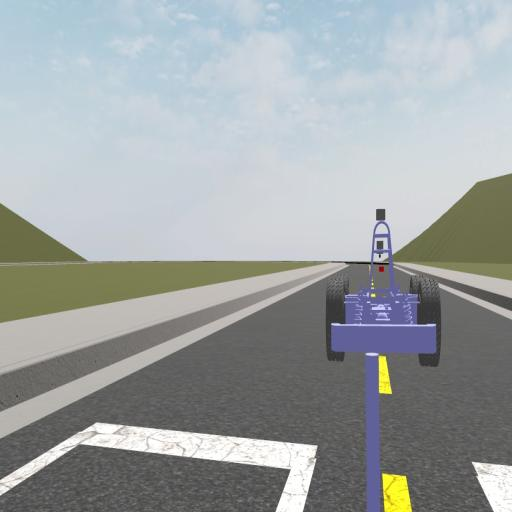ERP-42: (326, 207, 442, 366)
